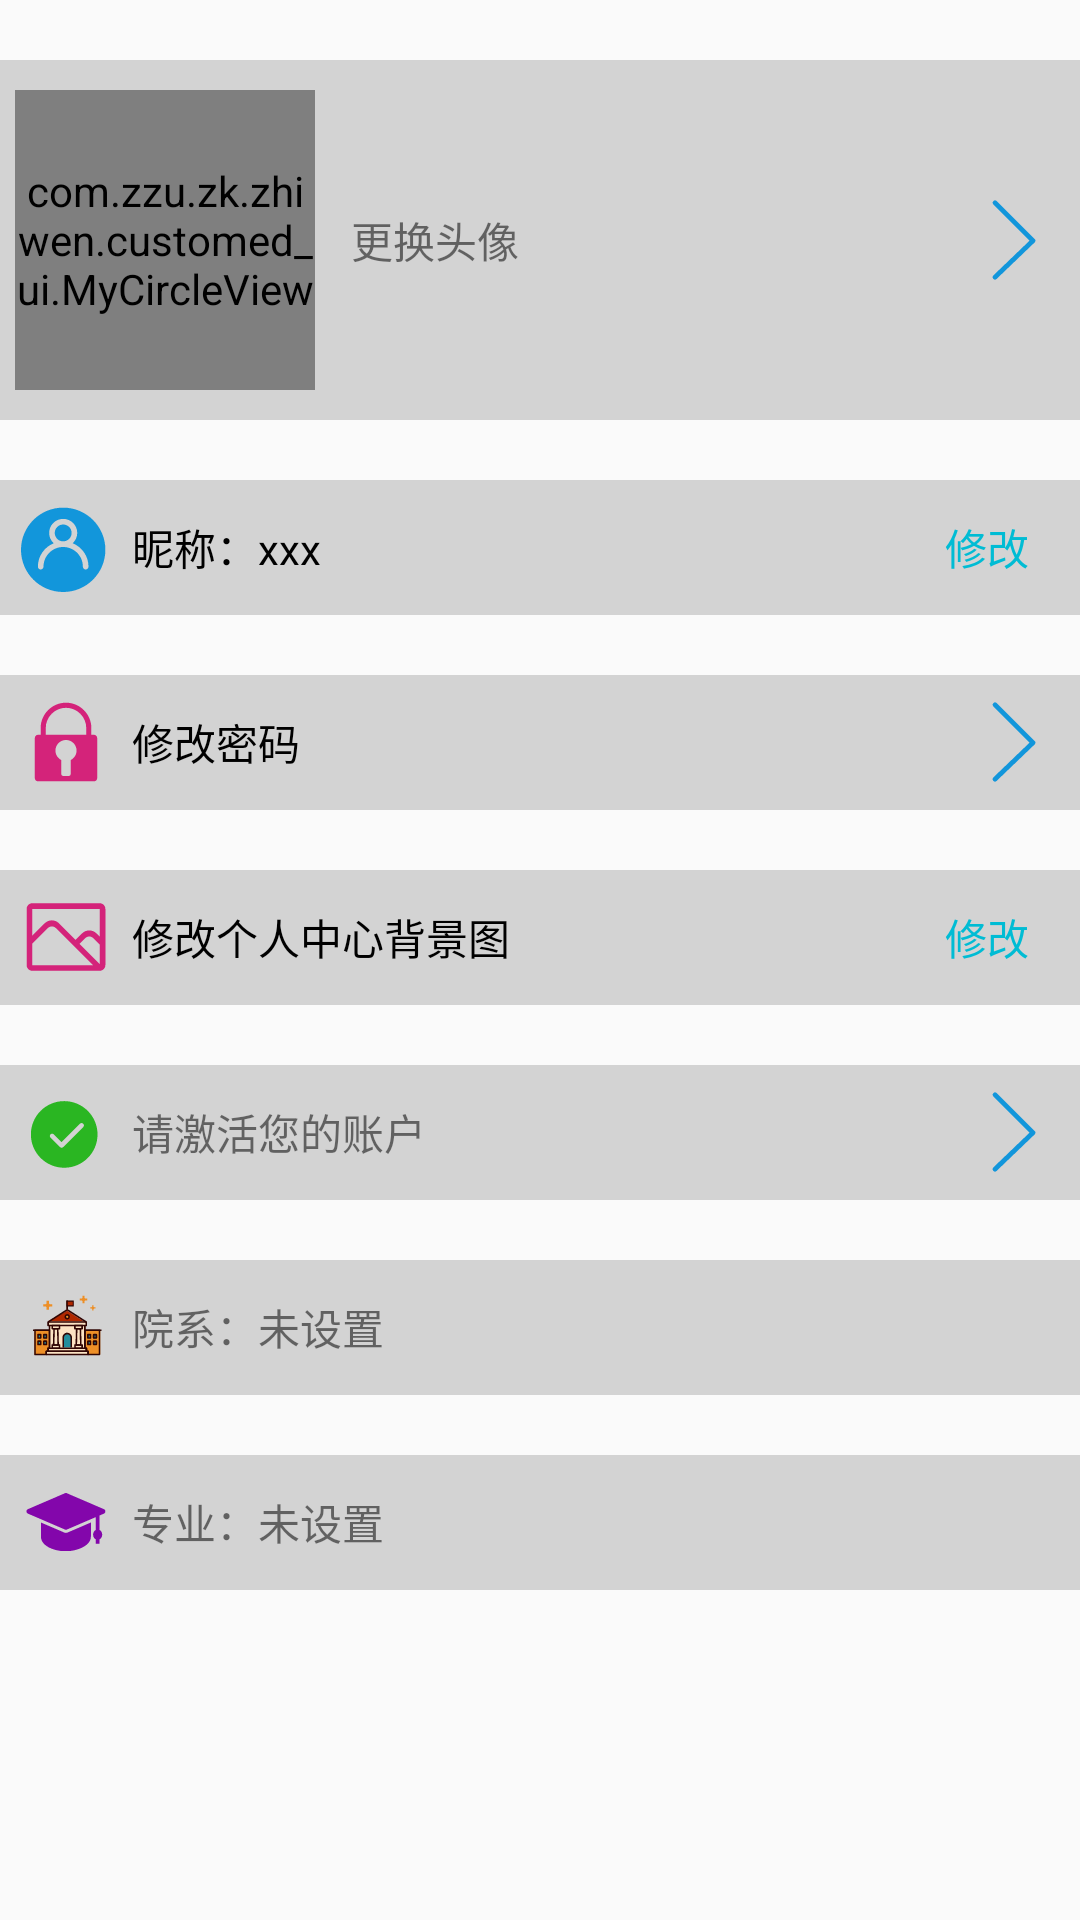

Locate icon controls on the screen. Image size 1080px x 1920px, boxes as bbox=(x1, y1, x2, y2).
forward: bbox=(992, 200, 1036, 280), bbox=(992, 702, 1036, 782), bbox=(992, 1092, 1036, 1172)
password: bbox=(34, 702, 98, 782)
